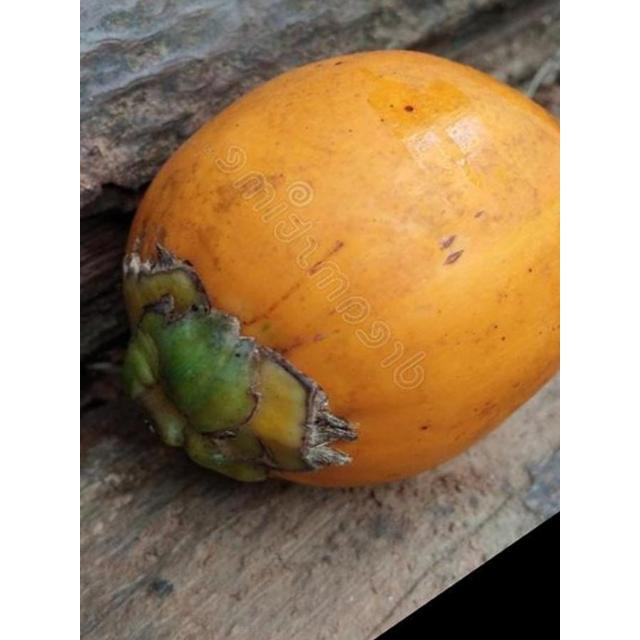good: (123, 51, 559, 486)
